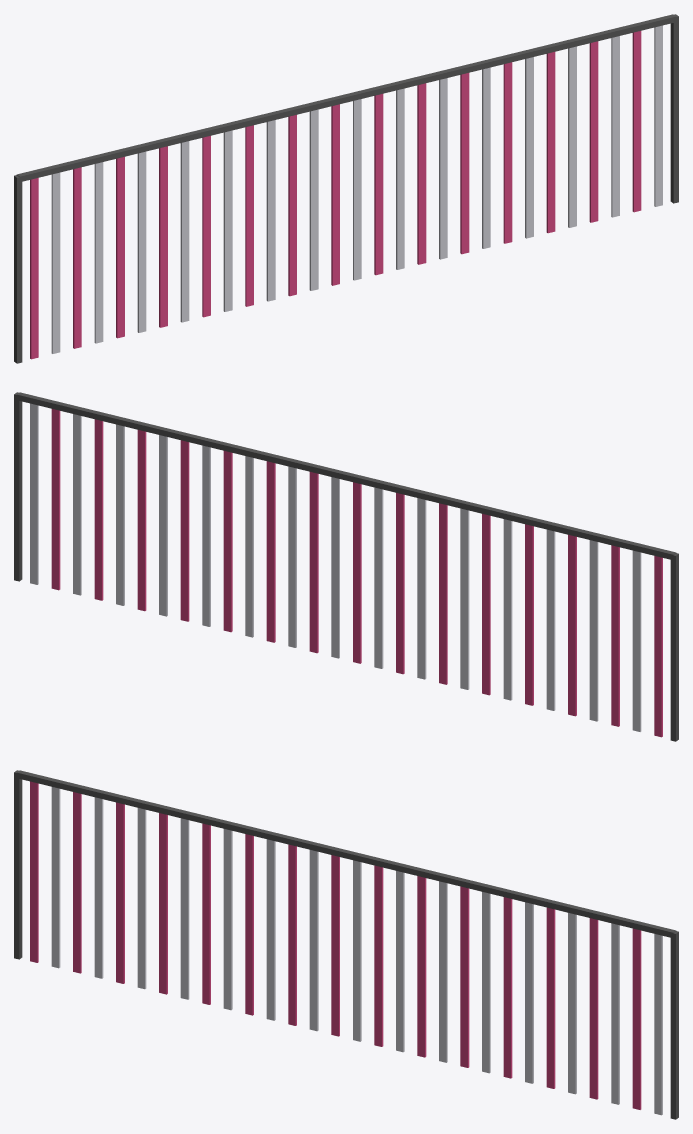
Rendered from lwf_stage_set_pop_v1.glb.
3 renders of one model, top to bottom at view 1: azimuth 30°, elevation 25°; view 2: azimuth 150°, elevation 25°; view 3: azimuth 330°, elevation 25°, orthographic.
Visible parts, largest first — view 1: Curtain, Props; view 2: Curtain, Props; view 3: Curtain, Props.
Boxes of the visible parts, box(x1,y1,x2,y2) form: Curtain: box(30, 25, 662, 359); Props: box(14, 14, 678, 363); Curtain: box(30, 403, 662, 737); Props: box(14, 392, 678, 741); Curtain: box(30, 781, 662, 1115); Props: box(14, 770, 678, 1119).
Bounding box in the file's own units: 6.15 × 1.65 × 0.05.
1 material, 1 textured.
